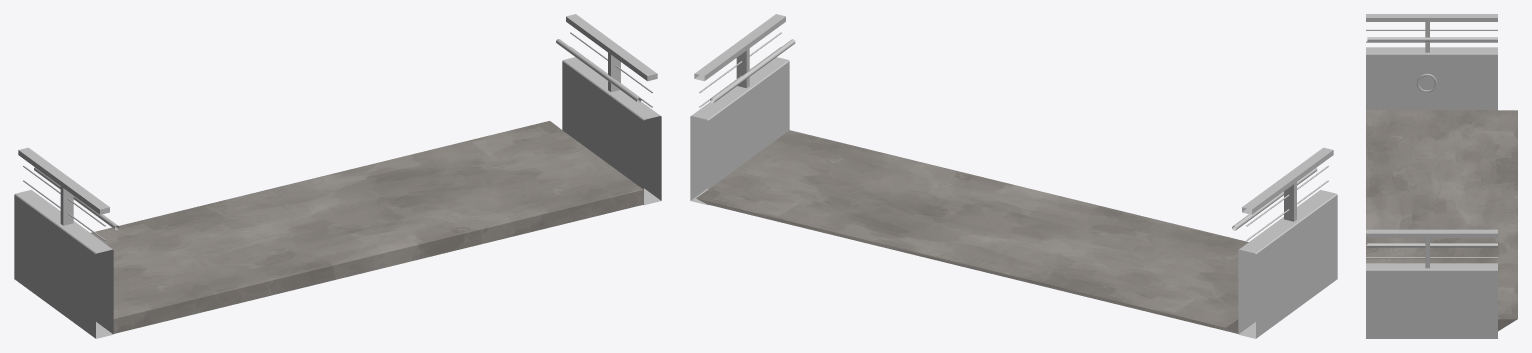
Rendered from MESH_StairsConnectorDouble.fbx.
The picture shows the model from 3 angles, left to right: view 1: azimuth 30°, elevation 25°; view 2: azimuth 150°, elevation 25°; view 3: azimuth 270°, elevation 25°; orthographic projection. The views are drawn at different scales.
Parts seen in each view (by area): view 1: ConcreteCubeDouble, ConcreteBaseShortL, ConcreteBaseShortR, HandleShortR, HandleShortL; view 2: ConcreteCubeDouble, ConcreteBaseShortL, ConcreteBaseShortR, HandleShortR, HandleShortL; view 3: ConcreteCubeDouble, ConcreteBaseShortR, ConcreteBaseShortL, HandleShortR, HandleShortL, LampsShortL.
Boxes of the visible parts, x1=… form: ConcreteCubeDouble: x1=91, y1=121, x2=643, y2=333; ConcreteBaseShortL: x1=14, y1=190, x2=113, y2=338; ConcreteBaseShortR: x1=562, y1=57, x2=661, y2=205; HandleShortR: x1=556, y1=14, x2=657, y2=107; HandleShortL: x1=18, y1=147, x2=119, y2=241; ConcreteCubeDouble: x1=696, y1=130, x2=1248, y2=333; ConcreteBaseShortL: x1=1238, y1=190, x2=1337, y2=338; ConcreteBaseShortR: x1=690, y1=57, x2=789, y2=205; HandleShortR: x1=694, y1=14, x2=795, y2=107; HandleShortL: x1=1232, y1=147, x2=1333, y2=241; ConcreteCubeDouble: x1=1366, y1=110, x2=1517, y2=331; ConcreteBaseShortR: x1=1366, y1=263, x2=1497, y2=338; ConcreteBaseShortL: x1=1366, y1=47, x2=1497, y2=110; HandleShortR: x1=1366, y1=229, x2=1497, y2=268; HandleShortL: x1=1366, y1=14, x2=1497, y2=52; LampsShortL: x1=1417, y1=73, x2=1436, y2=92.
Bounding box in the file's own units: 800 × 173 × 230.
